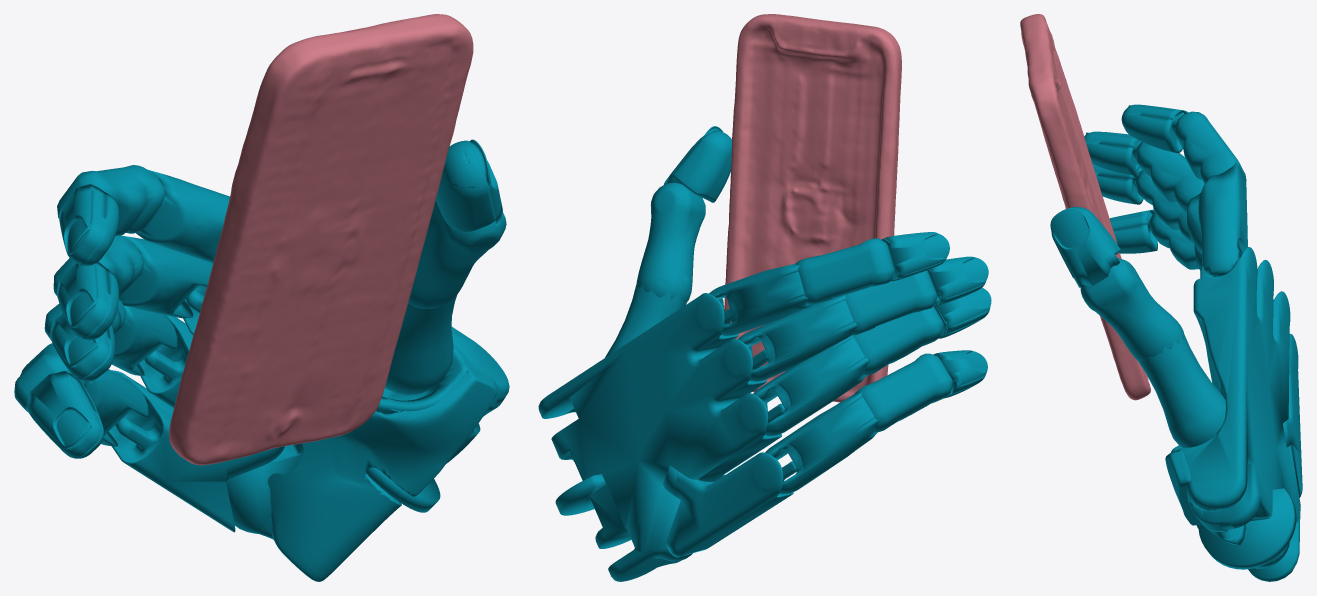
The picture shows the model from 3 angles, left to right: view 1: azimuth 30°, elevation 25°; view 2: azimuth 150°, elevation 25°; view 3: azimuth 270°, elevation 25°; orthographic projection. The views are drawn at different scales.
Parts seen in each view (by area): view 1: world; view 2: world; view 3: world.
Boxes of the visible parts, x1,y1,x2,y2 form: world: [14, 14, 509, 581]; world: [538, 14, 991, 581]; world: [1020, 14, 1302, 581].
Bounding box in the file's own units: 0.1749 × 0.2172 × 0.1111.
